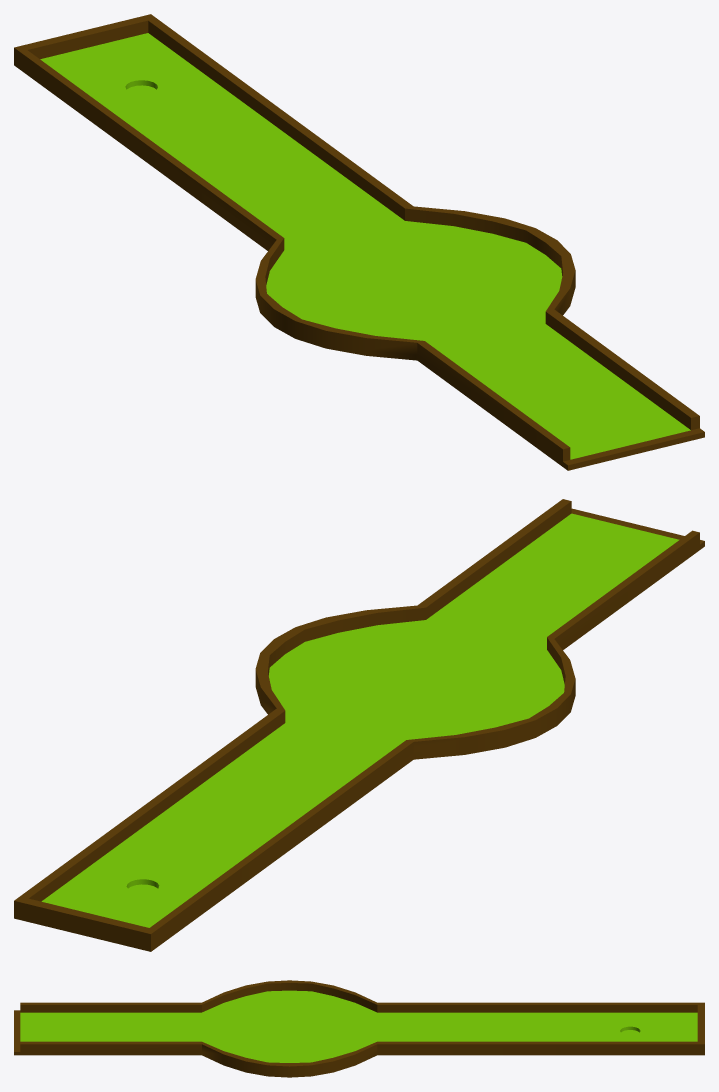
The model's file is Hole6.fbx.
3 renders of one model, top to bottom at view 1: azimuth 30°, elevation 25°; view 2: azimuth 150°, elevation 25°; view 3: azimuth 270°, elevation 25°, orthographic. The views are drawn at different scales.
Parts seen in each view (by area): view 1: pCube6; view 2: pCube6; view 3: pCube6.
Boxes of the visible parts, x1,y1,x2,y2 form: pCube6: [14, 14, 704, 470]; pCube6: [14, 499, 704, 951]; pCube6: [14, 980, 704, 1077].
Size of the model in its own units: 54.24 by 3.26 by 184.
